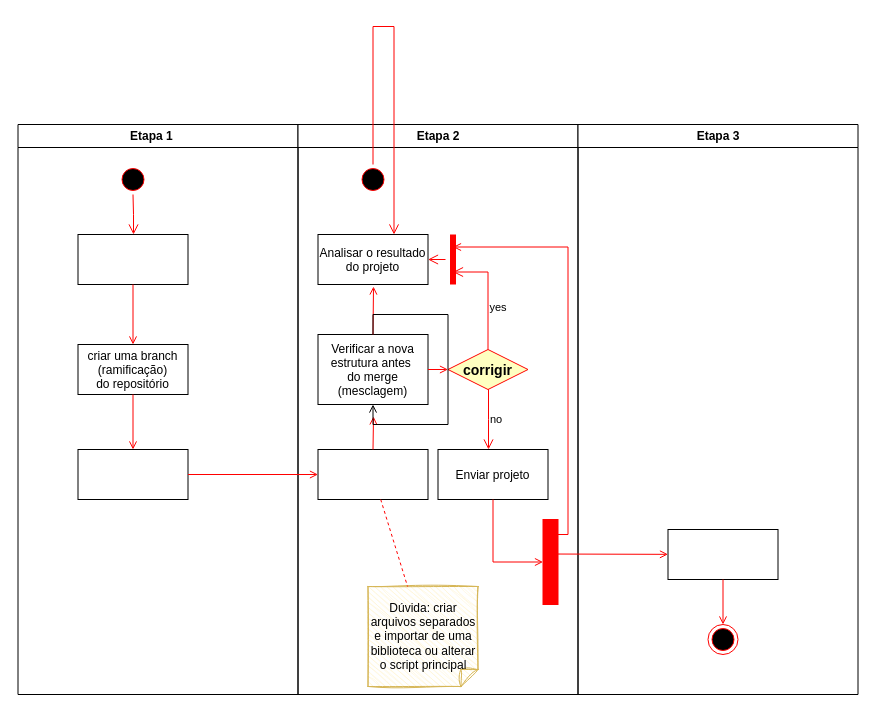
The diagram is 875 pixels wide and 712 high, and some of its shapes have lost their labels. The centre of each missing label's shape, as x and y in pixels:
"commitar" o novo código: point (372, 474)
Conclusão e entrega: point (722, 554)
Criar o script para a atividade designada: point (132, 474)
Criar repositório: point (132, 259)
impedimentos: point (550, 561)
